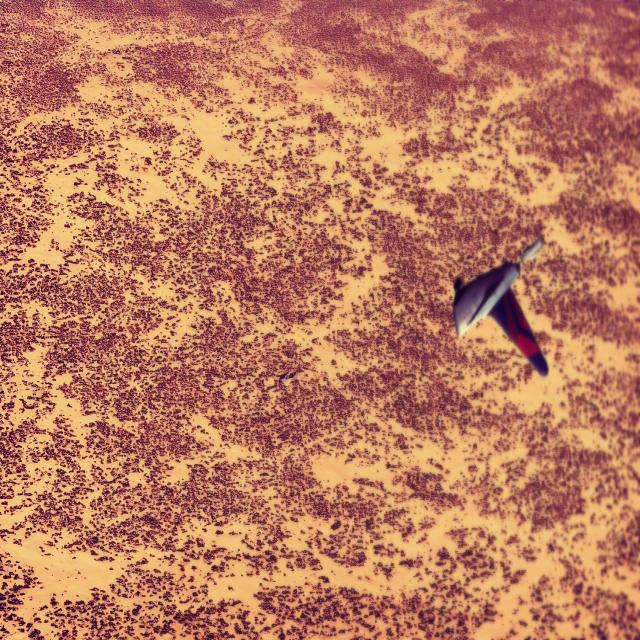airplane: (452, 235, 549, 378)
